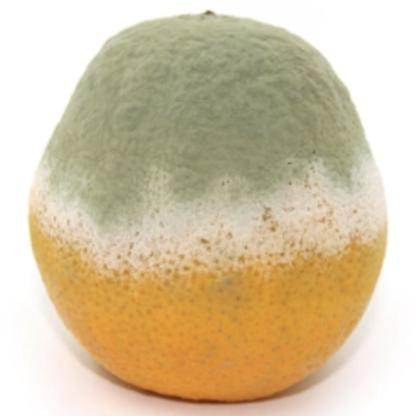rotten: (28, 10, 389, 404)
